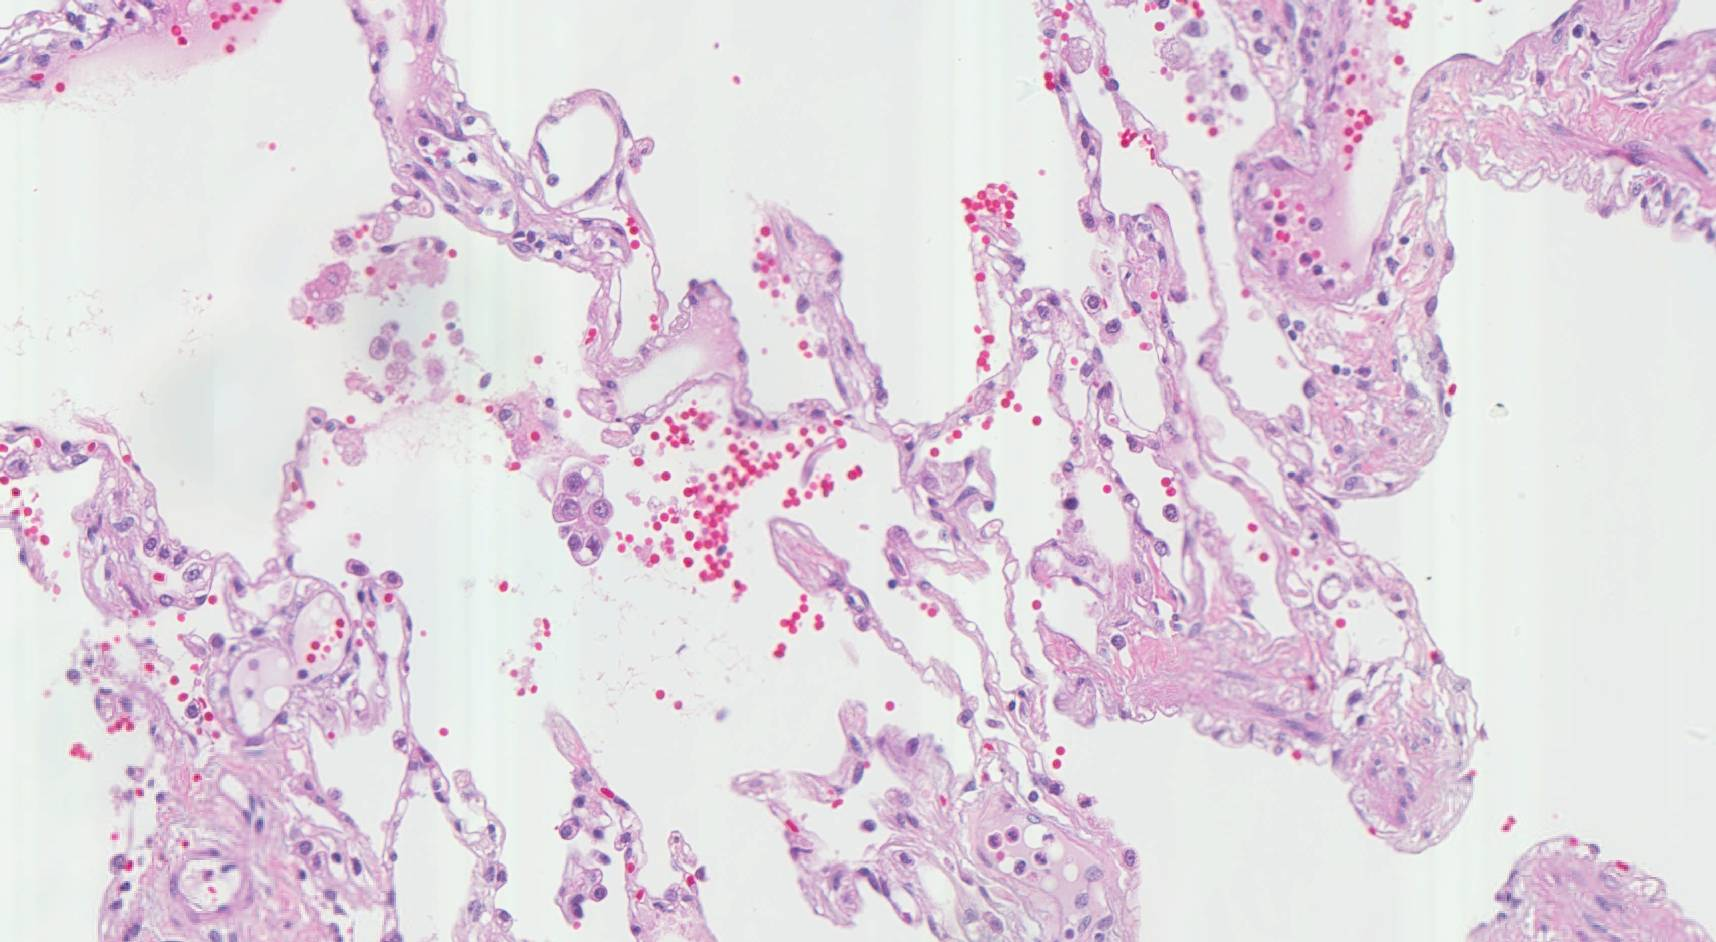stas: (547, 463, 616, 572)
